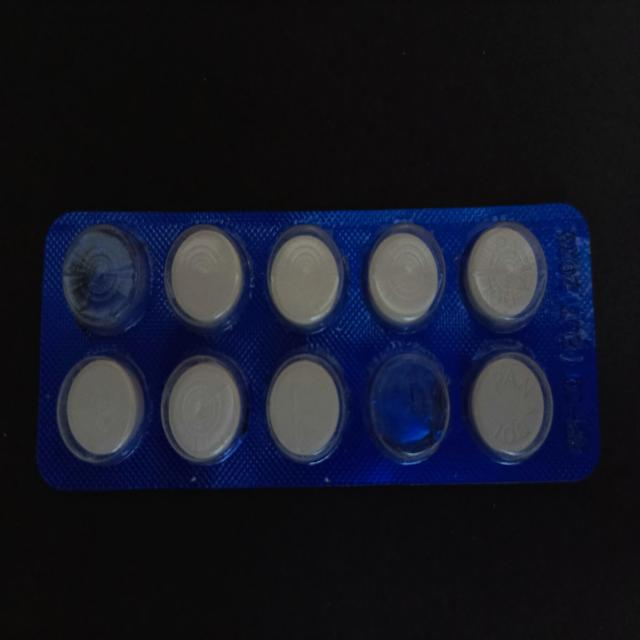defect: (58, 218, 156, 343), (362, 342, 455, 471)
